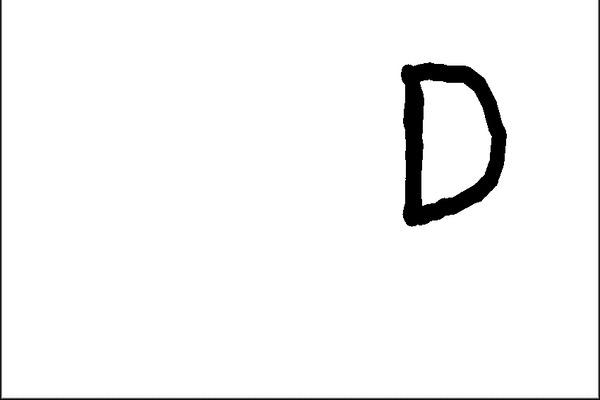D: (395, 54, 512, 231)
